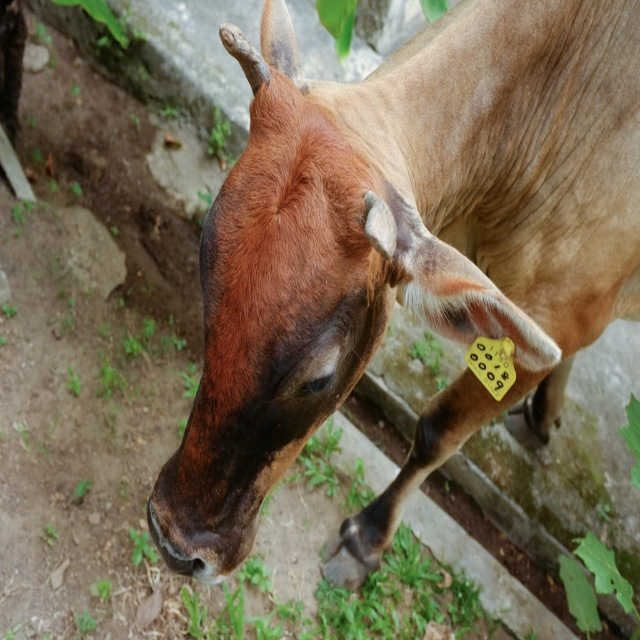Cattle: (146, 0, 640, 594)
